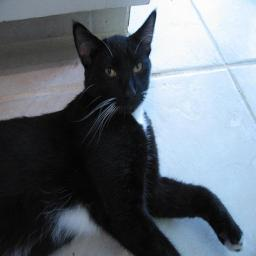catnose: (123, 85, 137, 101)
